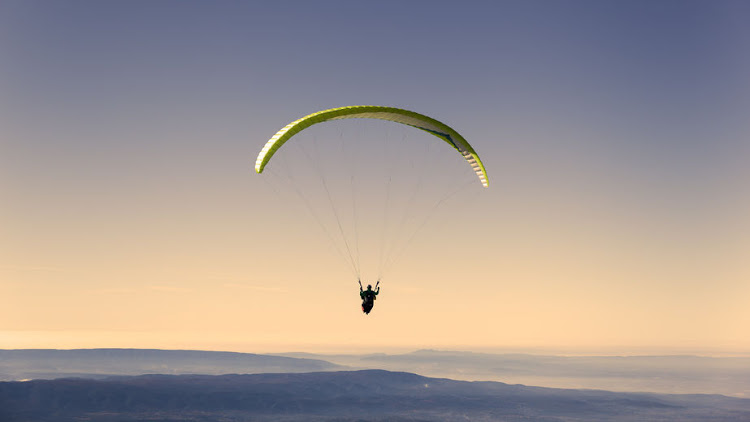Paraglider: (253, 99, 499, 200)
